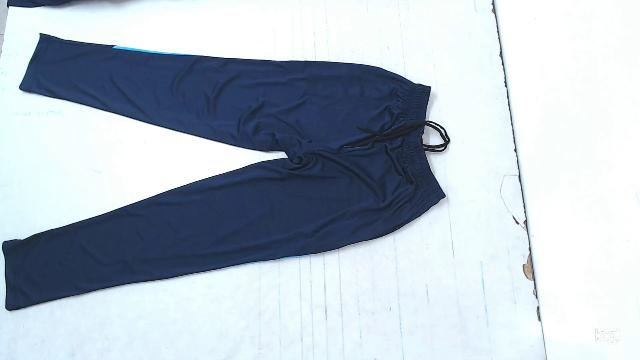new-garment: (2, 34, 450, 310)
